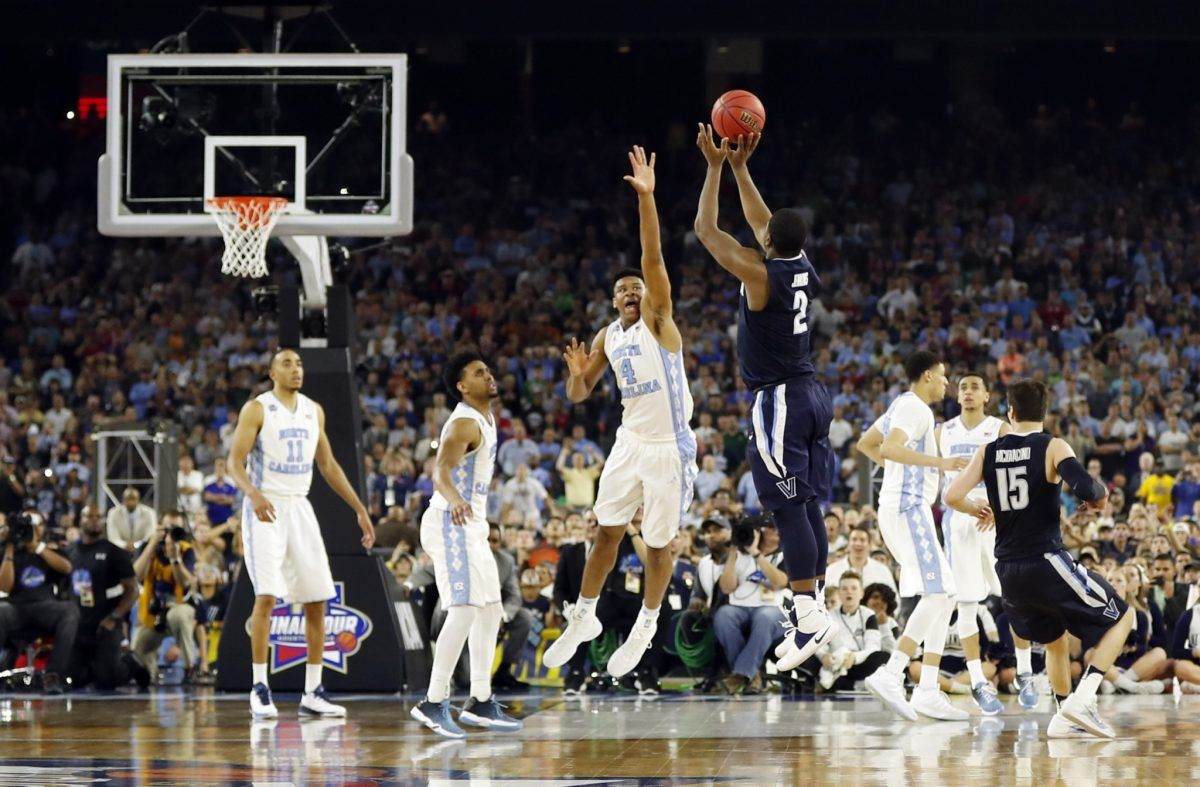ball: (692, 78, 784, 153)
basket: (189, 175, 296, 289)
block: (542, 133, 701, 697)
shoot: (670, 116, 839, 683)
